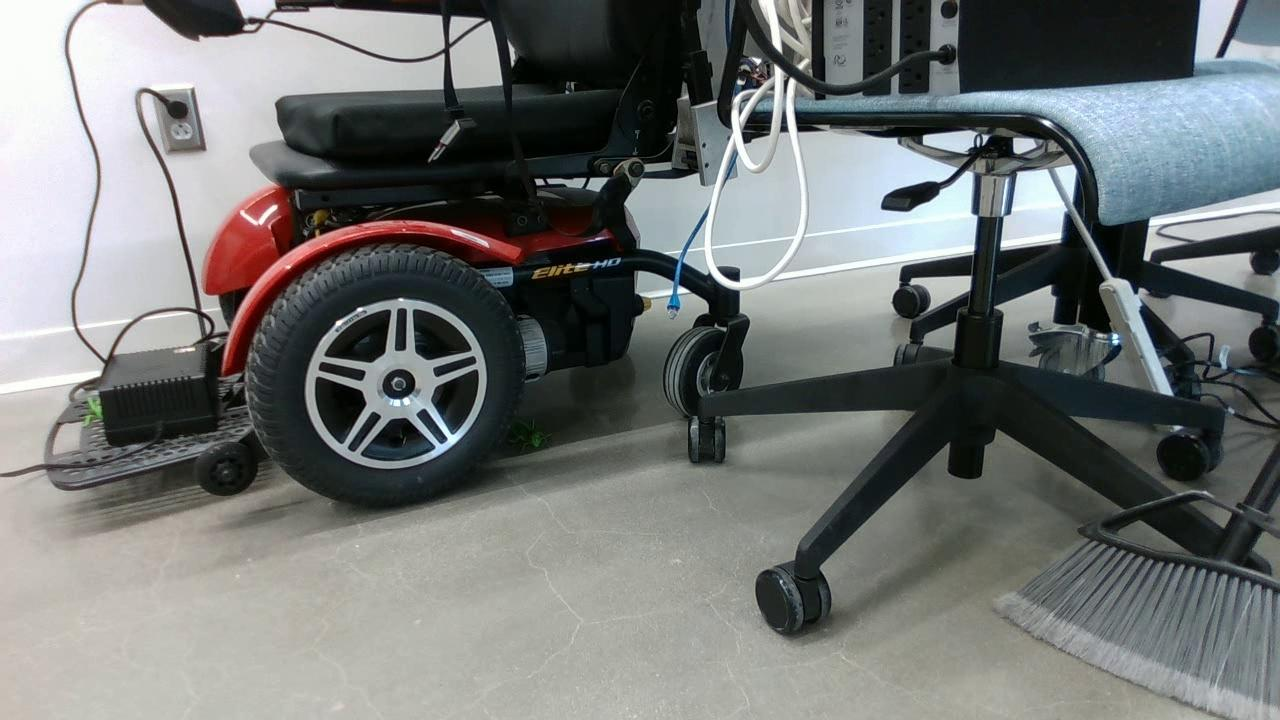grasshopper: (504, 413, 556, 450), (81, 389, 104, 430)
